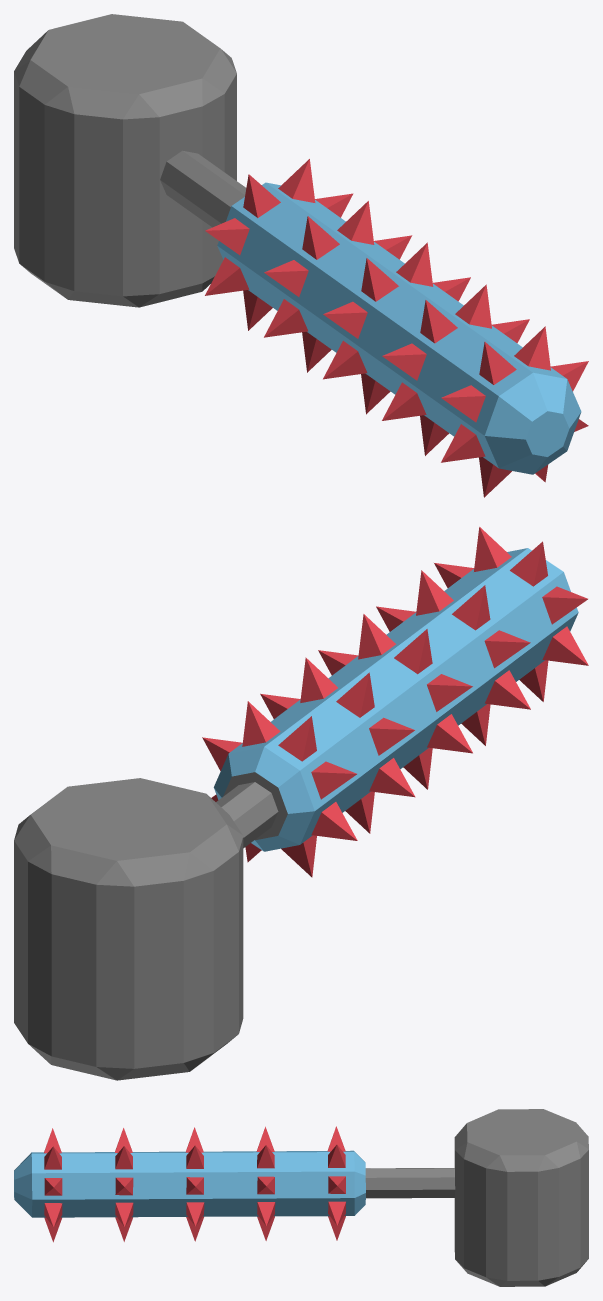
The model's file is obstacle10.fbx.
3 renders of one model, top to bottom at view 1: azimuth 30°, elevation 25°; view 2: azimuth 150°, elevation 25°; view 3: azimuth 270°, elevation 25°, orthographic. The views are drawn at different scales.
Visible parts, largest first — view 1: obstacle10; view 2: obstacle10; view 3: obstacle10.
Boxes of the visible parts, bbox=[...] form: obstacle10: bbox=[14, 14, 588, 497]; obstacle10: bbox=[14, 527, 588, 1080]; obstacle10: bbox=[14, 1109, 588, 1286].
Size of the model in its own units: 22.95 by 24.78 by 98.25.
